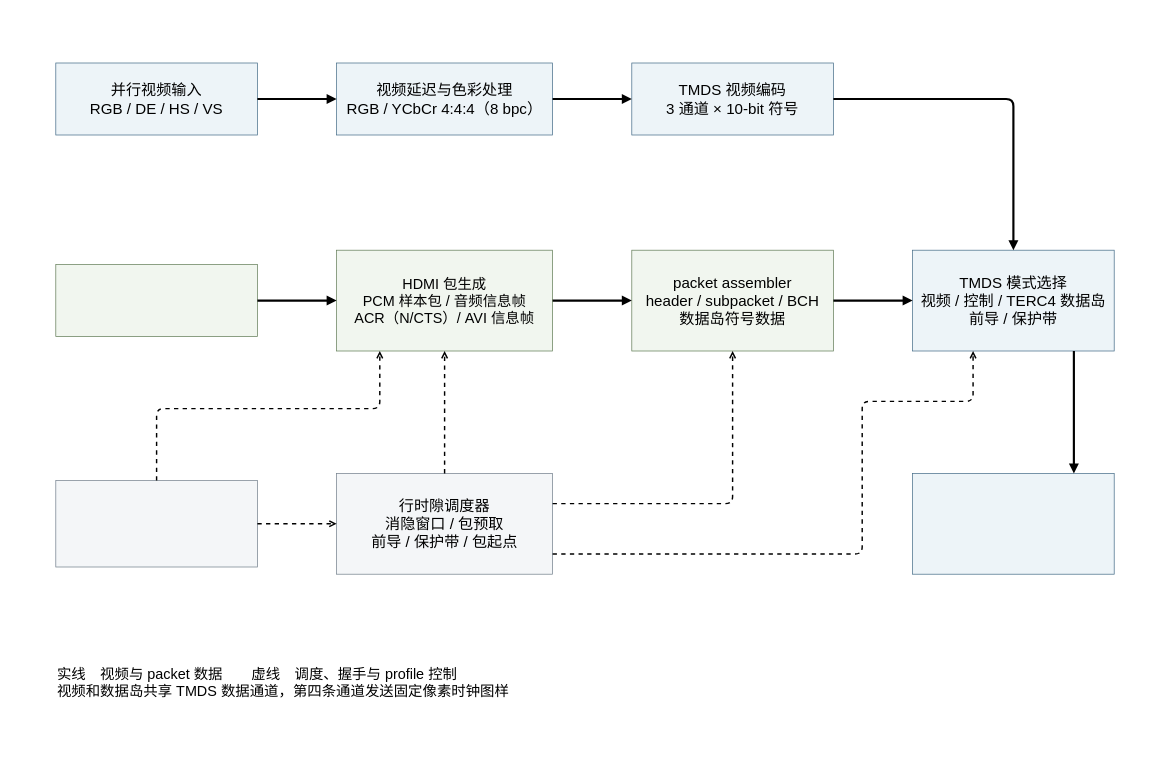
Some shapes in this 1176 by 780 pixel diagram are drawn without their labels. Each missing label, with the box of its shape:
10:1 DDR 串行化 每通道 Master + Slave 8 × OSERDESE2 4 × OBUFDS 差分输出: (912, 473, 1114, 574)
PCM 样本 异步 FIFO / 增益 / 静音: (55, 264, 257, 337)
活动模式参数 VIC / 像素频率 / 总行长 静态音频采样率: (55, 480, 257, 567)
